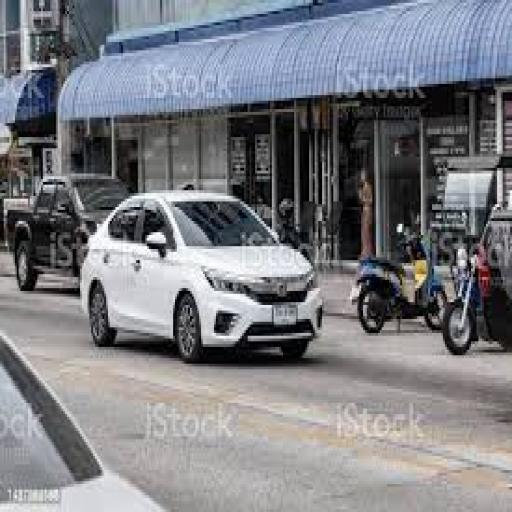License: (268, 303, 306, 329)
